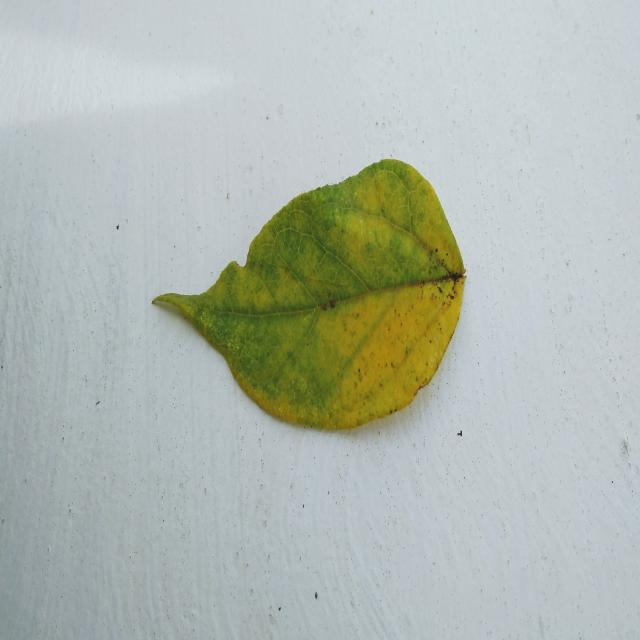Parijatha: (155, 160, 465, 429)
